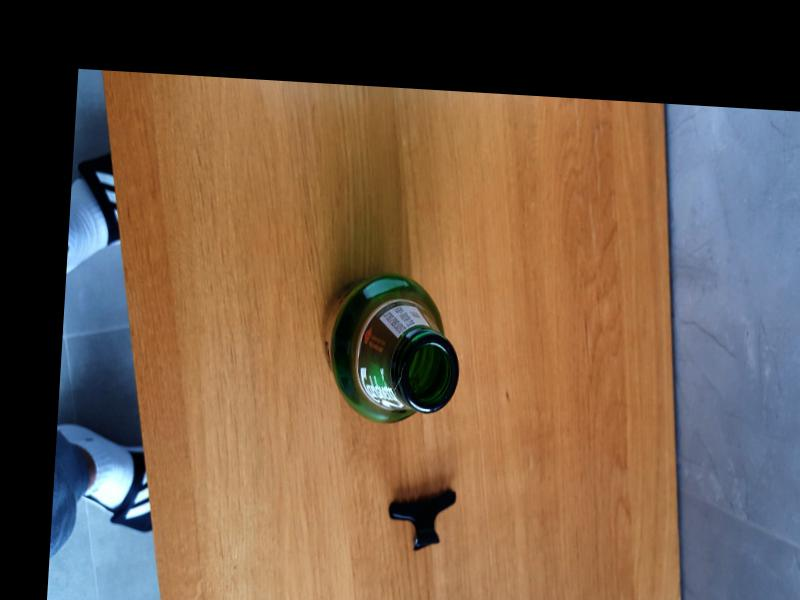Beer: (315, 270, 463, 431)
